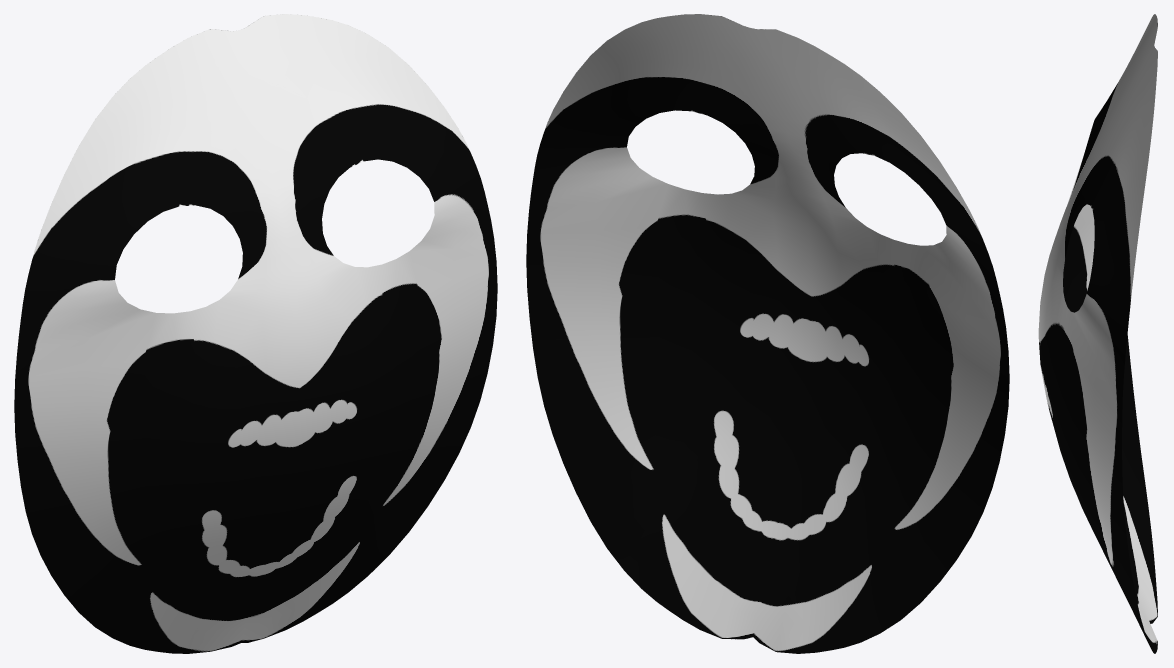
The model's file is Mascara.fbx.
3 views of the same model, side by side, from view 1: azimuth 30°, elevation 25°; view 2: azimuth 150°, elevation 25°; view 3: azimuth 270°, elevation 25° (orthographic). The views are drawn at different scales.
Visible parts, largest first — view 1: Cube.002; view 2: Cube.002; view 3: Cube.002.
Boxes of the visible parts, left/top/right/bottom form: Cube.002: left=14, top=14, right=497, bottom=653; Cube.002: left=526, top=14, right=1009, bottom=653; Cube.002: left=1038, top=14, right=1157, bottom=653.
Size of the model in its own units: 1.21 by 1.5 by 0.2768.
